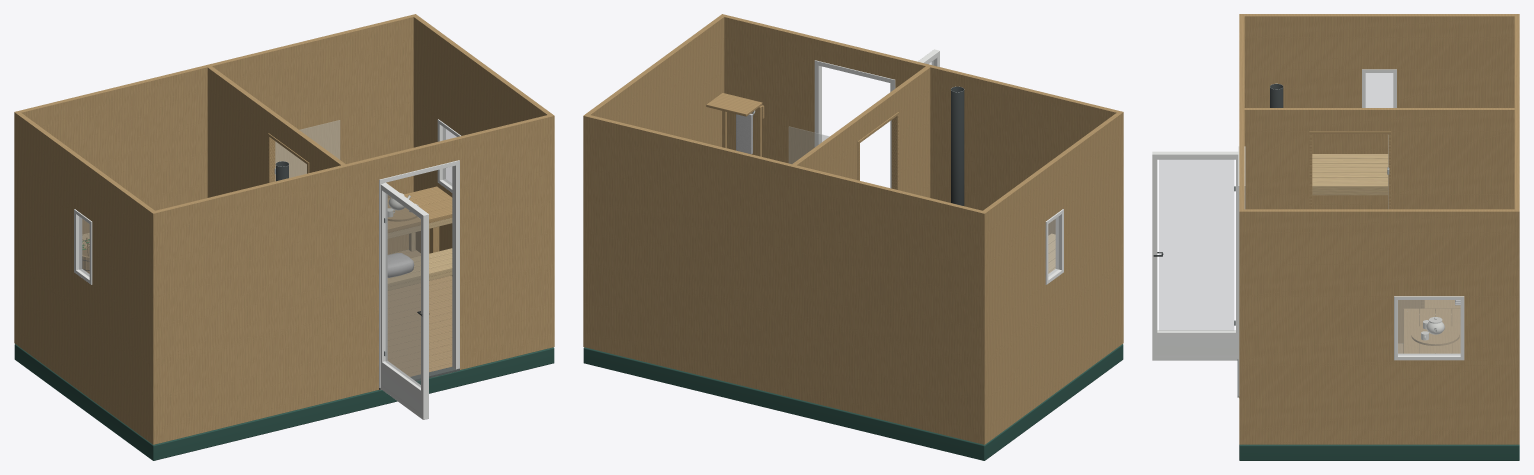
The picture shows the model from 3 angles, left to right: view 1: azimuth 30°, elevation 25°; view 2: azimuth 150°, elevation 25°; view 3: azimuth 270°, elevation 25°; orthographic projection.
Visible parts, largest first — view 1: DP14-W01, DP14-W02, DP14-W03, Hinge_DP14-D02, DP14-W04, Dimensioned foundation, DP14-W05, Floor lounge, Door entry p14_i5266, С1 table, Л2 bench, Hinge_DP14-D01 (+2 smaller); view 2: DP14-W02, DP14-W03, DP14-W01, DP14-W04, Dimensioned foundation, DP14-W05, В1 wall hook rail, ASTON dimensioned stove and remote firebox, Window p14_i5270, Door entry p14_i5266, Door steam p14_i5242, Hinge_DP14-D01; view 3: DP14-W04, DP14-W03, DP14-W05, Hinge_DP14-D02, Dimensioned foundation, Window p14_i5272, ВП1 upper, С1 table, DP14-W01, DP14-W02, Window p14_i5270, Door steam p14_i5242 (+3 smaller).
Boxes of the visible parts, <box> form: DP14-W01: <box>150,114,554,444</box>; DP14-W02: <box>14,14,417,344</box>; DP14-W03: <box>16,113,154,442</box>; Hinge_DP14-D02: <box>380,182,429,419</box>; DP14-W04: <box>413,16,551,275</box>; Dimensioned foundation: <box>14,344,554,460</box>; DP14-W05: <box>207,66,345,197</box>; Floor lounge: <box>387,249,452,376</box>; Door entry p14_i5266: <box>379,160,459,389</box>; С1 table: <box>387,186,452,253</box>; Л2 bench: <box>387,248,452,286</box>; Hinge_DP14-D01: <box>275,120,339,180</box>; DP14-W02: <box>583,114,987,444</box>; DP14-W03: <box>983,113,1121,442</box>; DP14-W01: <box>720,14,1123,344</box>; DP14-W04: <box>586,16,724,146</box>; Dimensioned foundation: <box>583,344,1123,460</box>; DP14-W05: <box>792,66,930,197</box>; В1 wall hook rail: <box>706,93,764,156</box>; ASTON dimensioned stove and remote firebox: <box>951,86,964,205</box>; Window p14_i5270: <box>1045,209,1063,284</box>; Door entry p14_i5266: <box>814,60,895,188</box>; Door steam p14_i5242: <box>857,112,898,190</box>; Hinge_DP14-D01: <box>789,126,829,163</box>; DP14-W04: <box>1244,209,1514,444</box>; DP14-W03: <box>1244,14,1514,209</box>; DP14-W05: <box>1244,108,1514,342</box>; Hinge_DP14-D02: <box>1152,151,1238,360</box>; Dimensioned foundation: <box>1239,444,1519,460</box>; Window p14_i5272: <box>1394,296,1464,360</box>; ВП1 upper: <box>1312,154,1388,189</box>; С1 table: <box>1403,308,1460,353</box>; DP14-W01: <box>1239,14,1244,444</box>; DP14-W02: <box>1514,14,1519,444</box>; Window p14_i5270: <box>1362,69,1396,107</box>; Door steam p14_i5242: <box>1309,131,1391,209</box>.
Bounding box in the file's own units: 4.02 × 2.36 × 3.14.
Materials: 29 (10 with a texture image).
